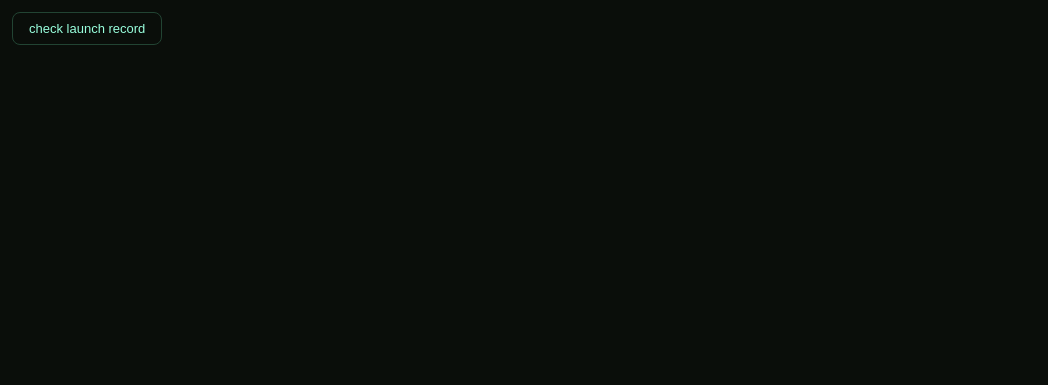
Test case: pratica di lancio: ingresso solo locale e anteprima › una pratica non idonea mostra i motivi e non offre la conferma
Step 1. Click the button "check launch record" → (87,28), box [12,12,162,45]
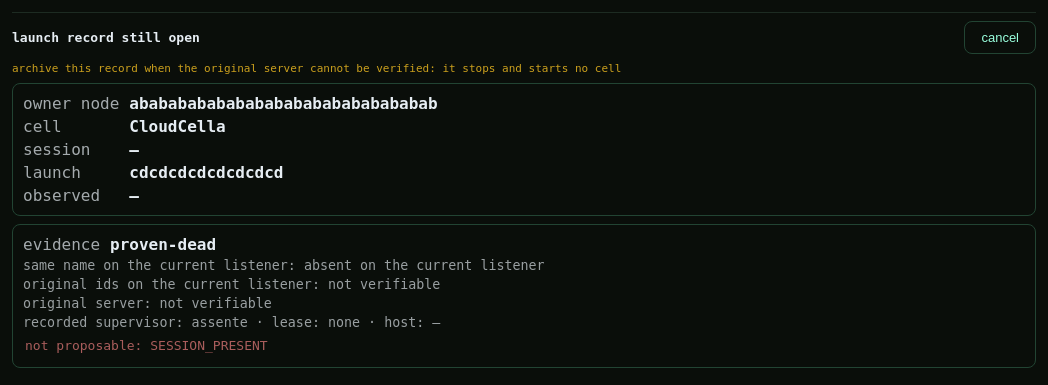
Expected: the text with test id "nc-attest-reasons" shows "SESSION_PRESENT", [150,338,268,353]
